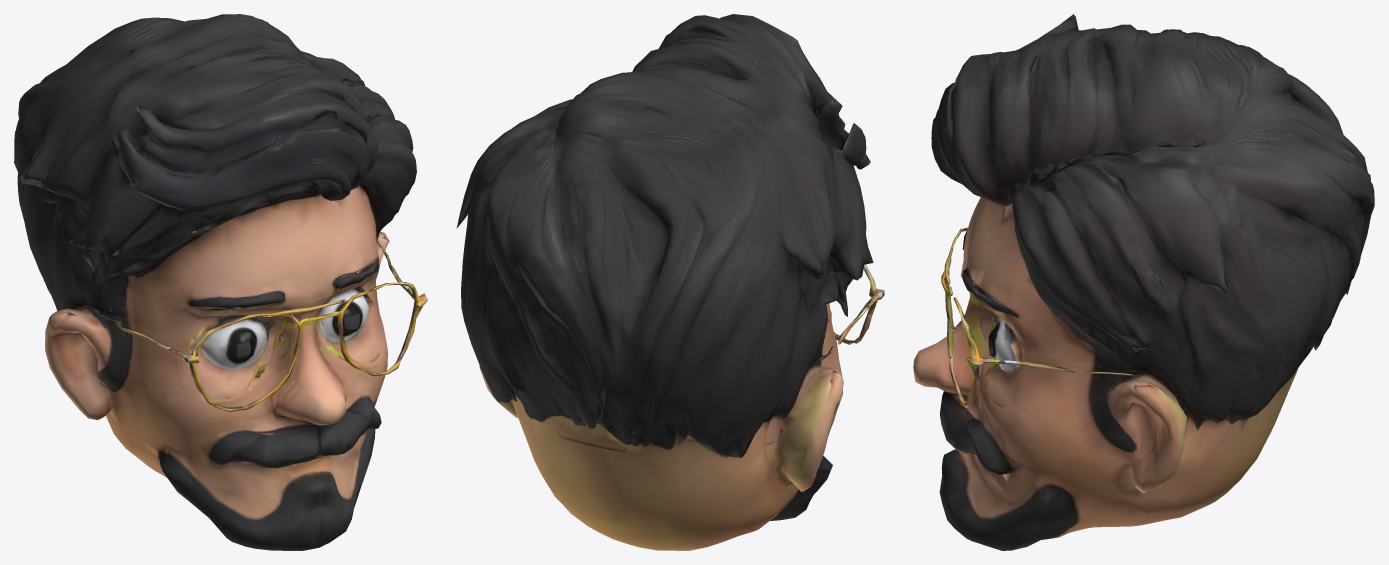
The model's file is avatar.glb.
3 views of the same model, side by side, from view 1: azimuth 30°, elevation 25°; view 2: azimuth 150°, elevation 25°; view 3: azimuth 270°, elevation 25° (orthographic). The views are drawn at different scales.
Bounding box in the file's own units: 1.57 × 1.99 × 1.75.
Materials: 1 (1 with a texture image).
